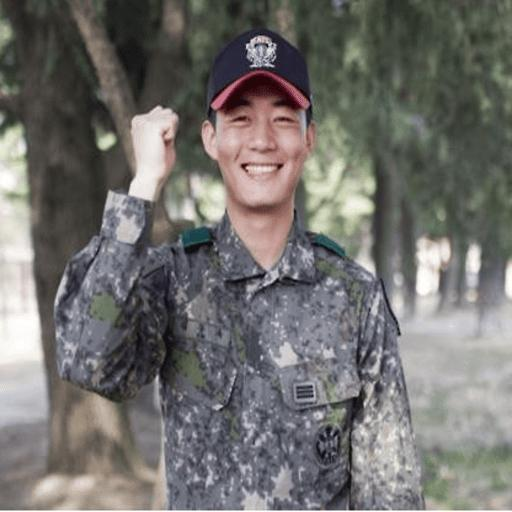korea army: (52, 27, 426, 509)
